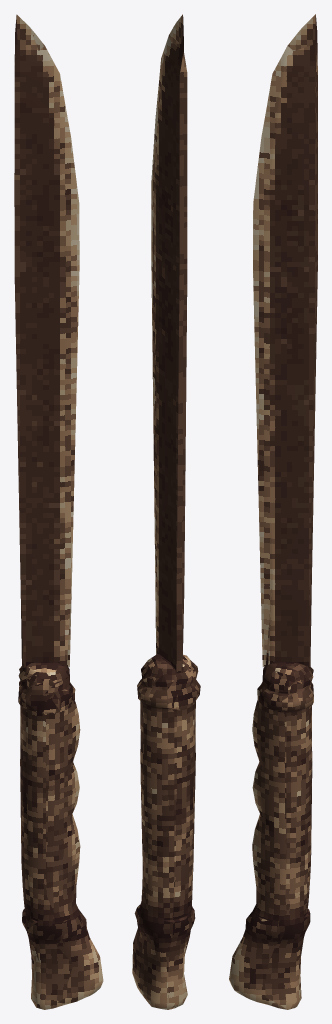
Rendered from machete.glb.
3 renders of one model, left to right at view 1: azimuth 90°, elevation 25°; view 2: azimuth 210°, elevation 25°; view 3: azimuth 270°, elevation 25°, orthographic.
Visible parts, largest first — view 1: body; view 2: body; view 3: body.
Part boxes in pixels (x1,y1,x2,y2): body: (14,14,103,1009); body: (132,14,200,1009); body: (229,14,317,1009).
Size of the model in its own units: 0.0427 by 0.7548 by 0.0614.
1 material, 1 textured.
